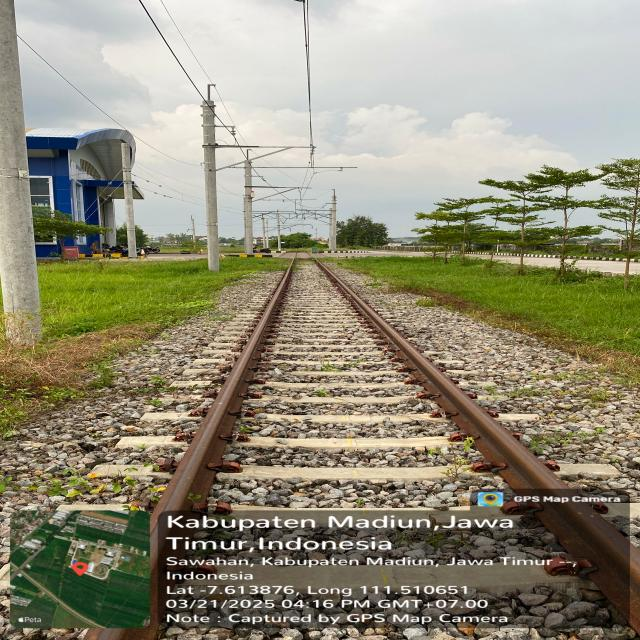rail-detection: (316, 261, 640, 633), (90, 261, 292, 640)
